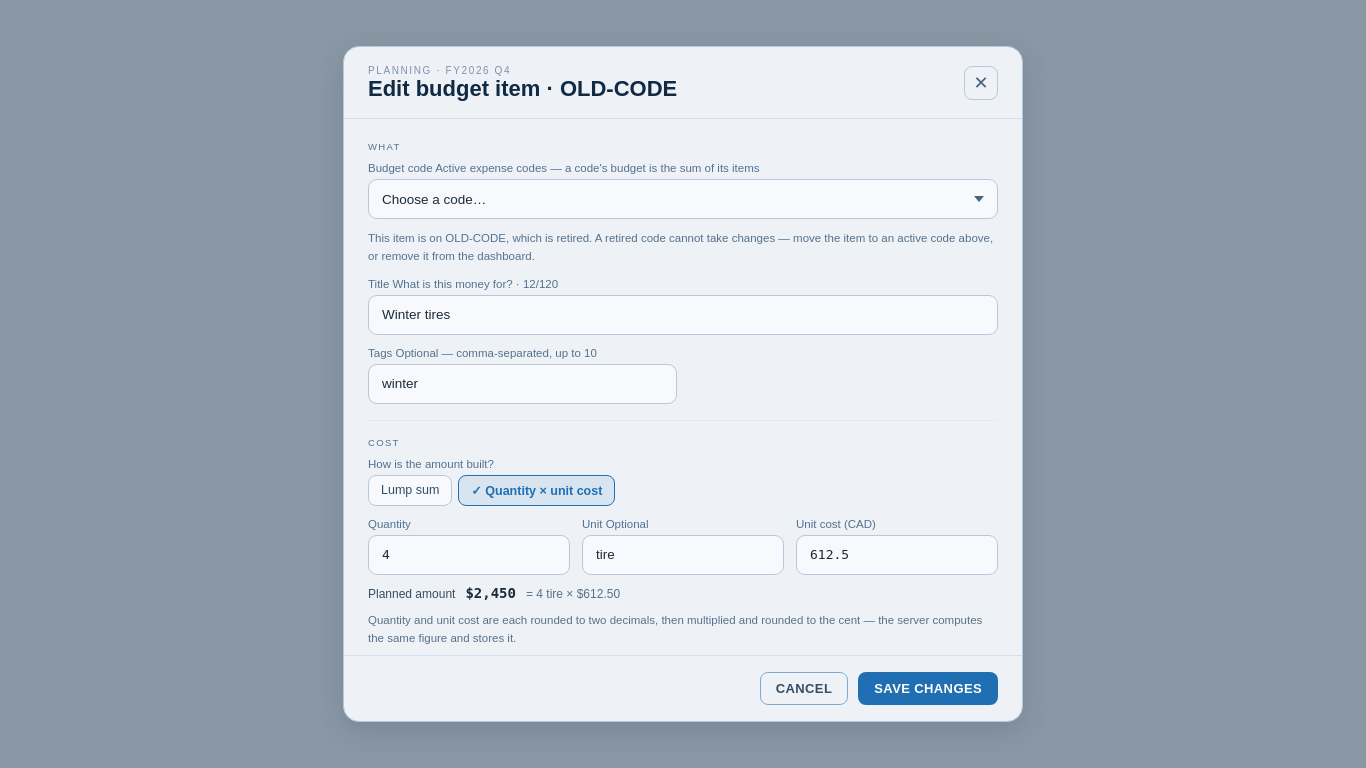
Test: BudgetItemFormModal — save › opens an item on a retired code with no code chosen — it can only be moved
This screenshot has width=1366, height=768.
Check: the text "which is retired" is shown, box [368,232,993,262]
Click the text "SAVE CHANGES" at (928, 688), box [858,672,998,705]
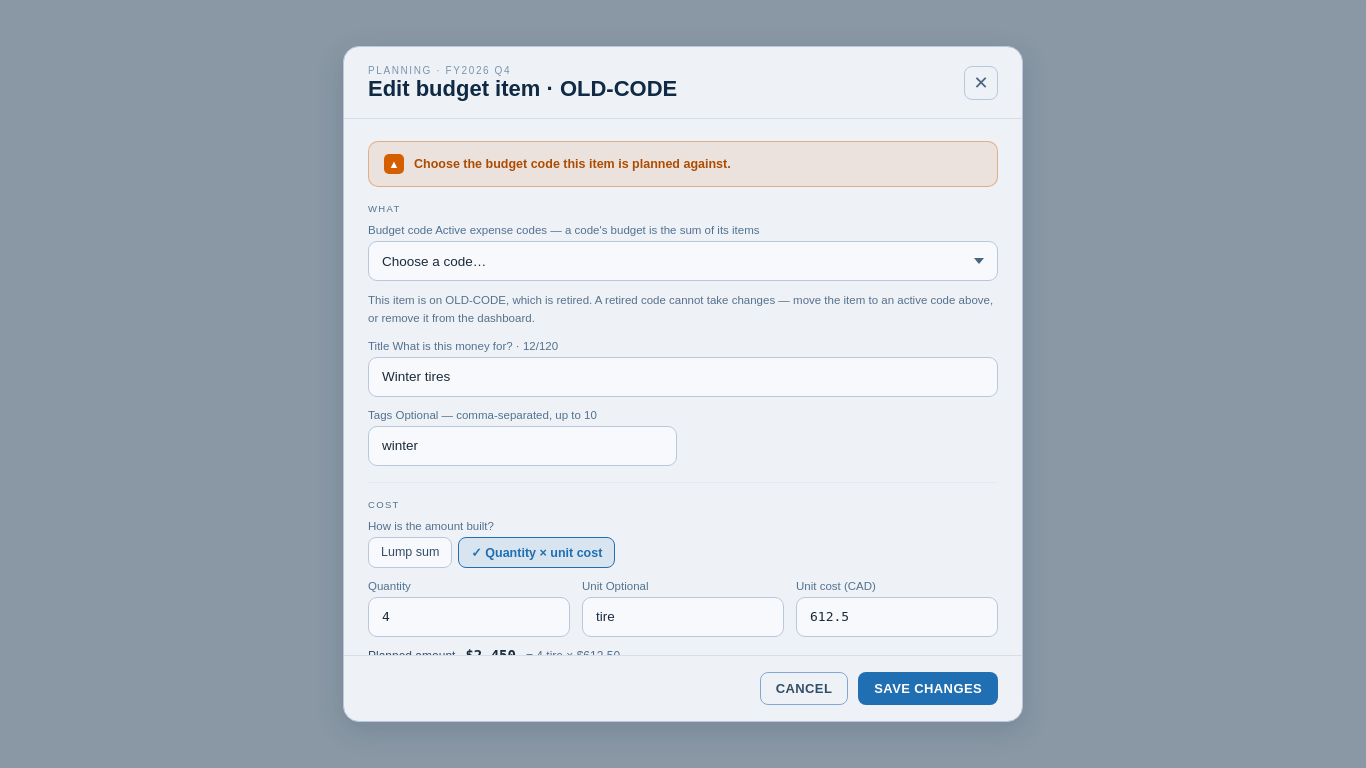
Check: the text "Choose the budget code this item is planned against." is shown, box [414,157,731,171]
